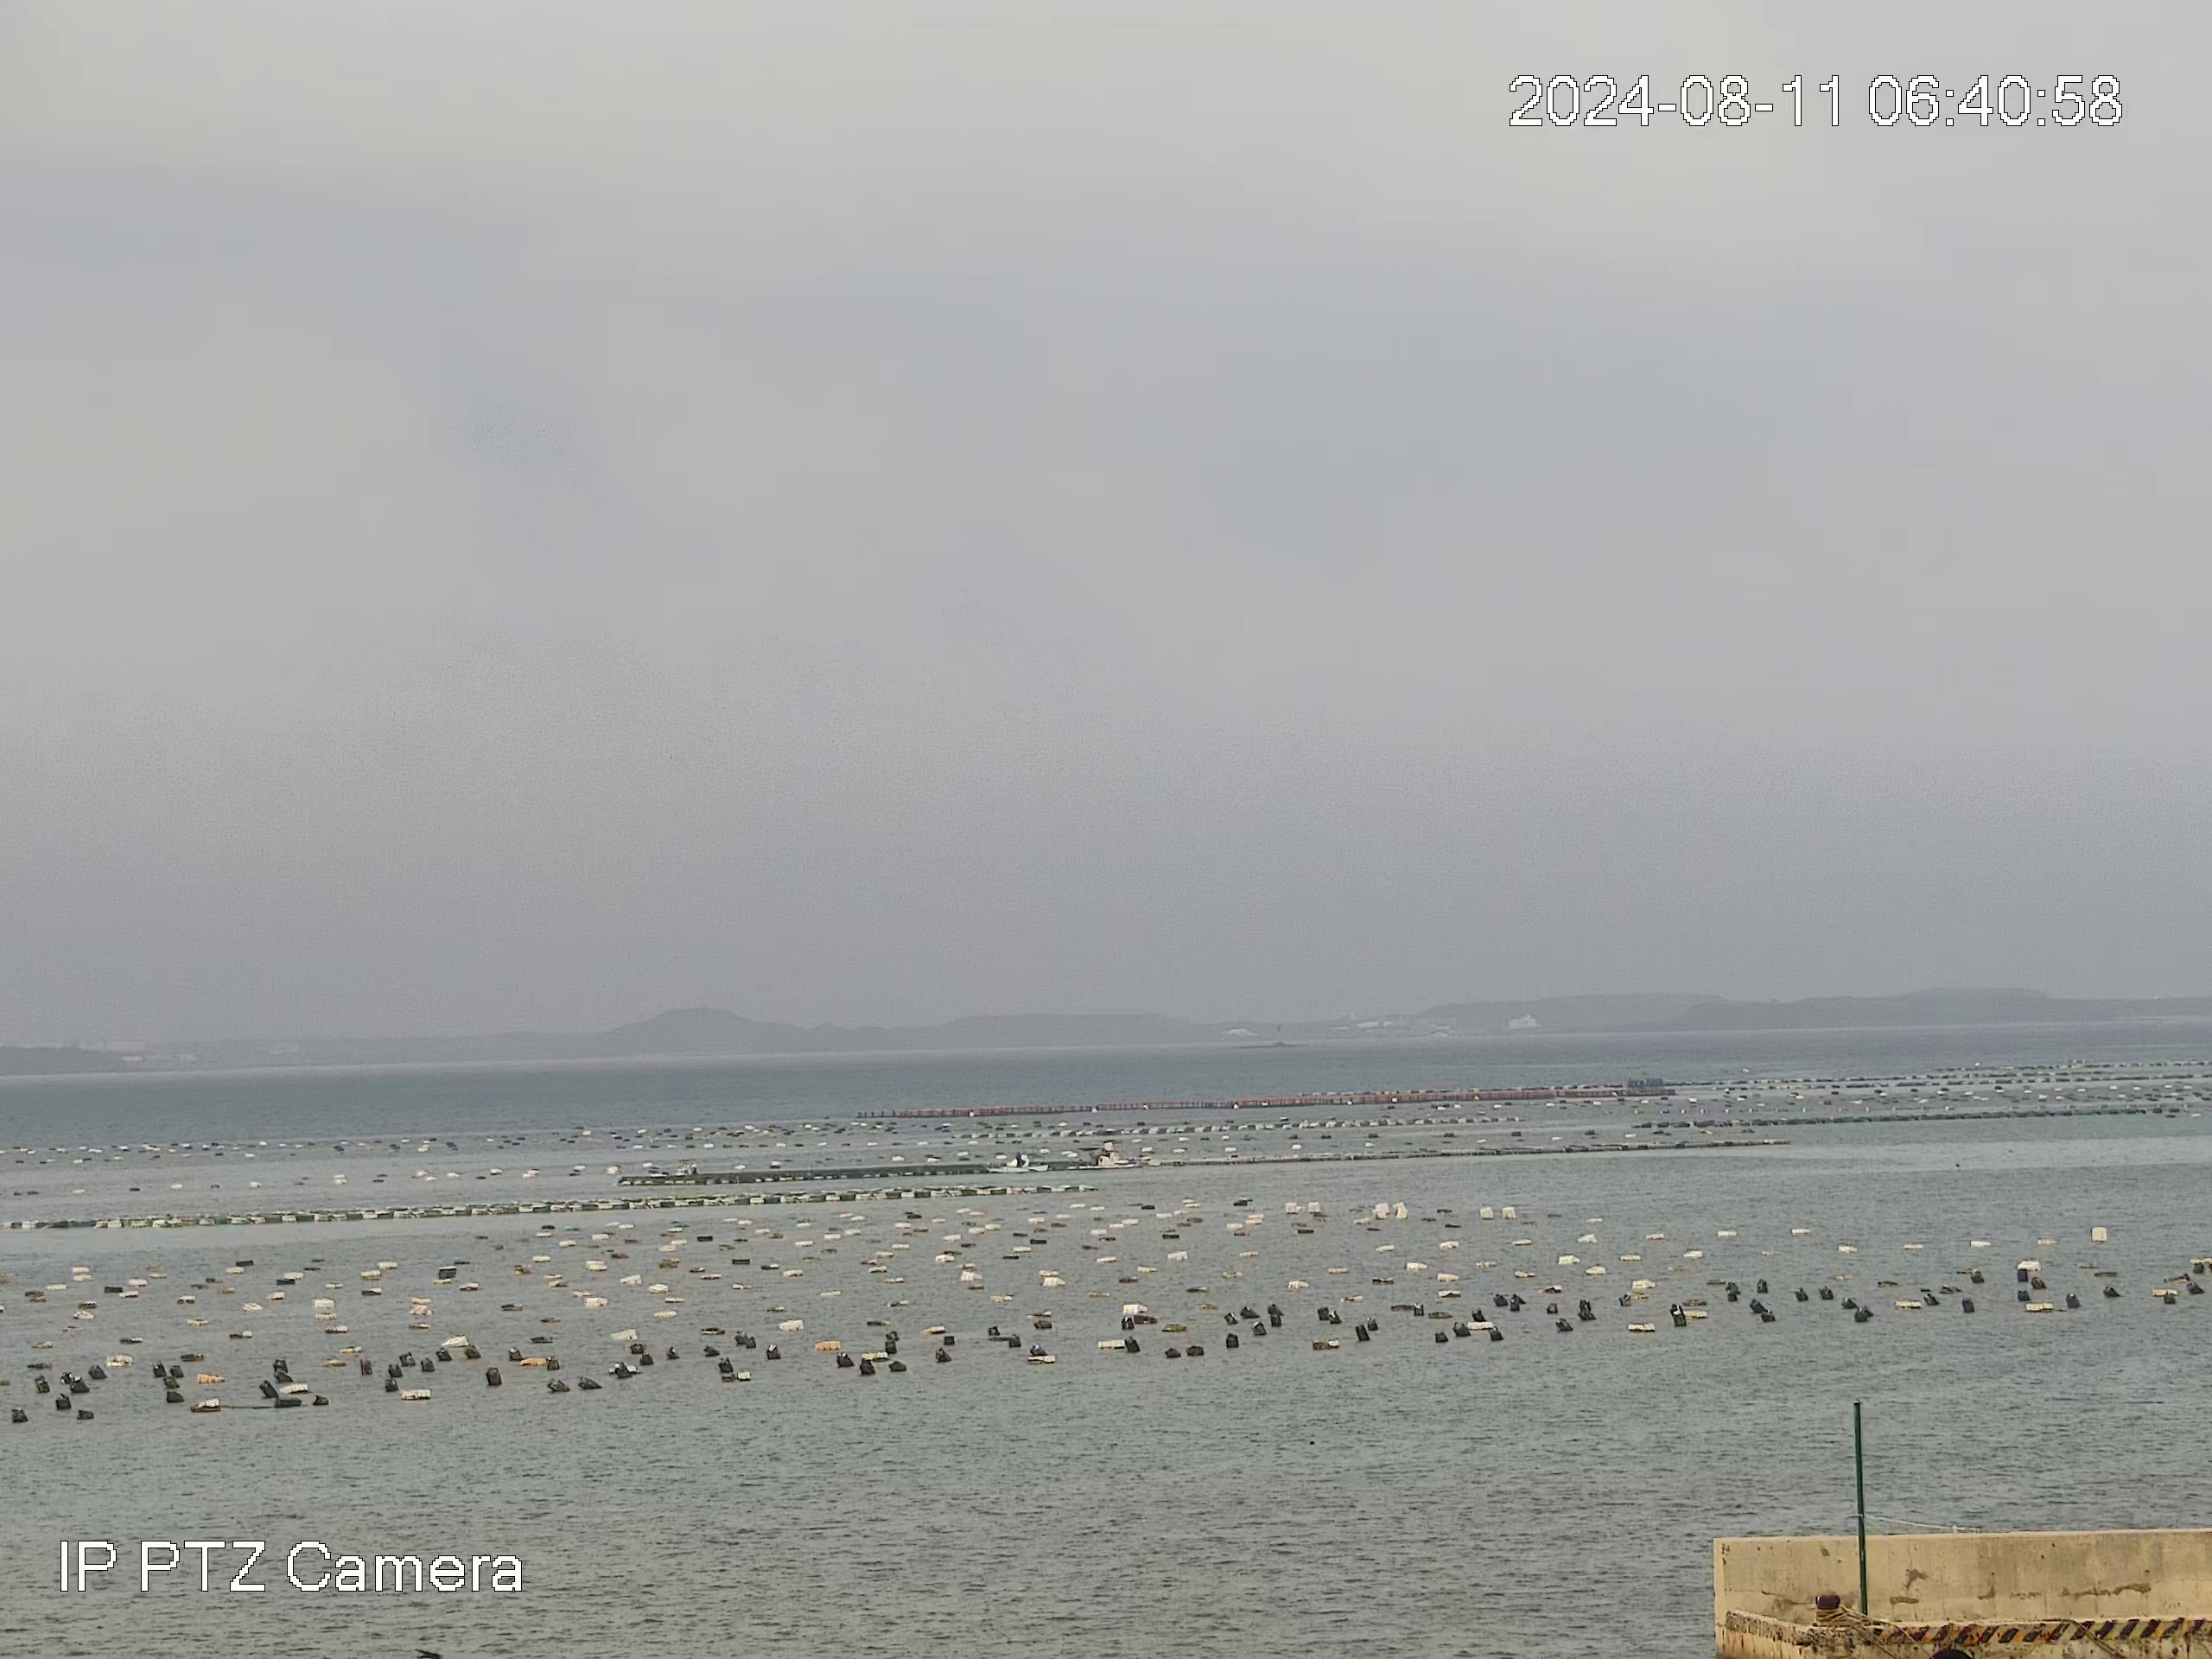boat: (981, 1152, 1050, 1175), (1066, 1143, 1118, 1171)
